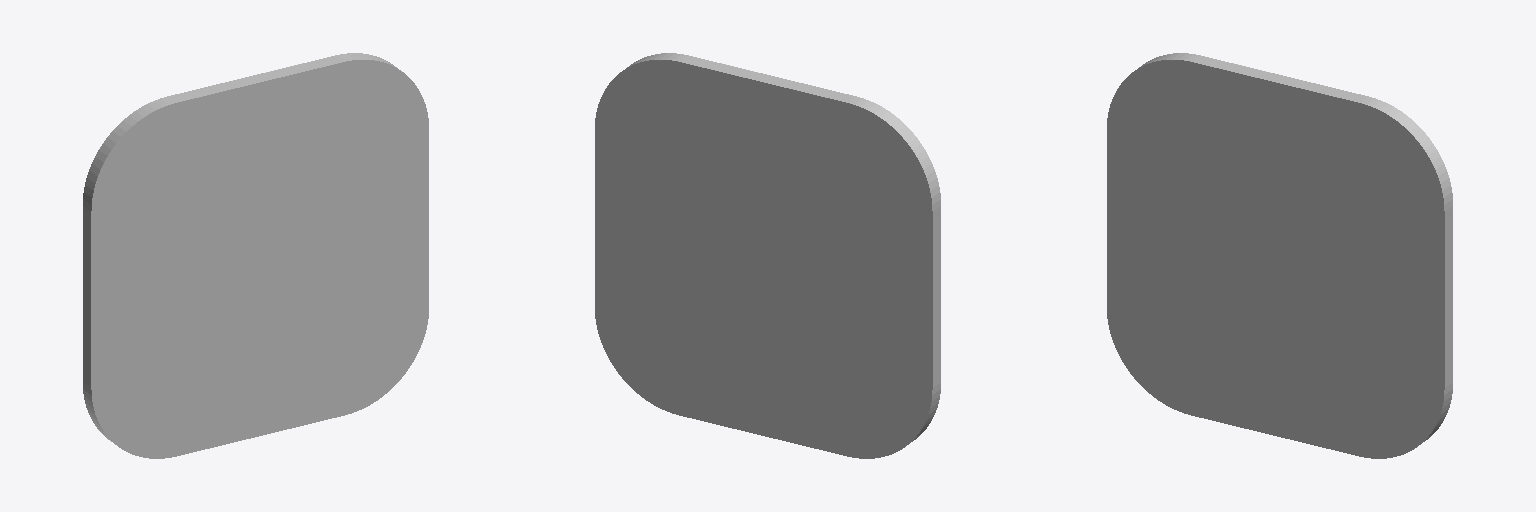
File: Face_Corner.obj
The picture shows the model from 3 angles: view 1: azimuth 30°, elevation 25°; view 2: azimuth 150°, elevation 25°; view 3: azimuth 330°, elevation 25°; orthographic projection.
Parts seen in each view (by area): view 1: Plane; view 2: Plane; view 3: Plane.
Boxes of the visible parts, x1,y1,x2,y2 form: Plane: [83, 53, 428, 458]; Plane: [595, 53, 940, 458]; Plane: [1107, 53, 1452, 458].
Bounding box in the file's own units: 0.44 × 0.44 × 0.02.